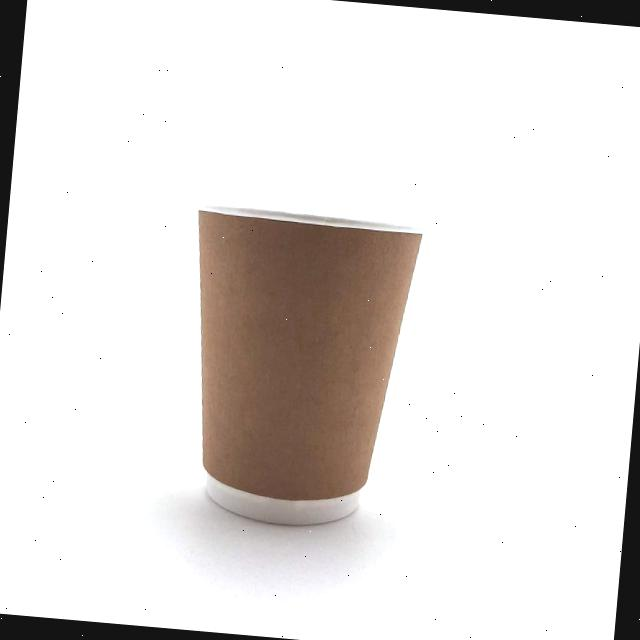trash: (154, 197, 461, 547)
